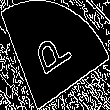P_SW: (32, 27, 78, 83)
